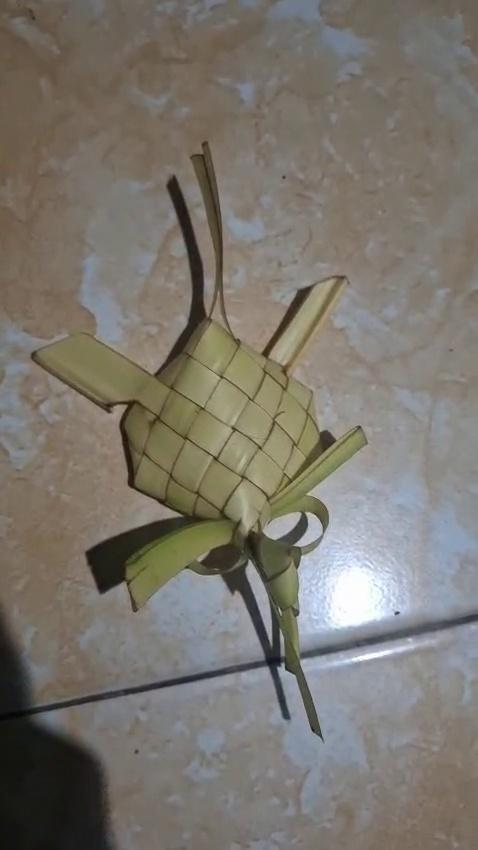Tipat Dampulan: (27, 146, 373, 749)
